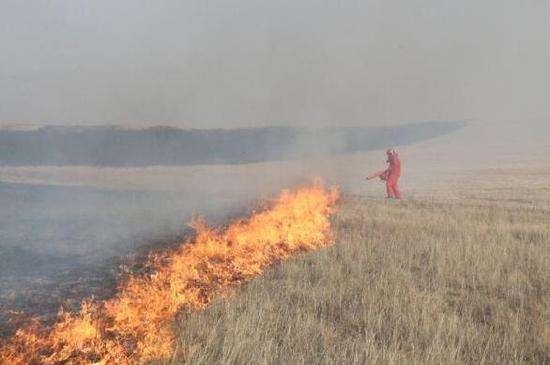fire: (9, 162, 339, 353)
